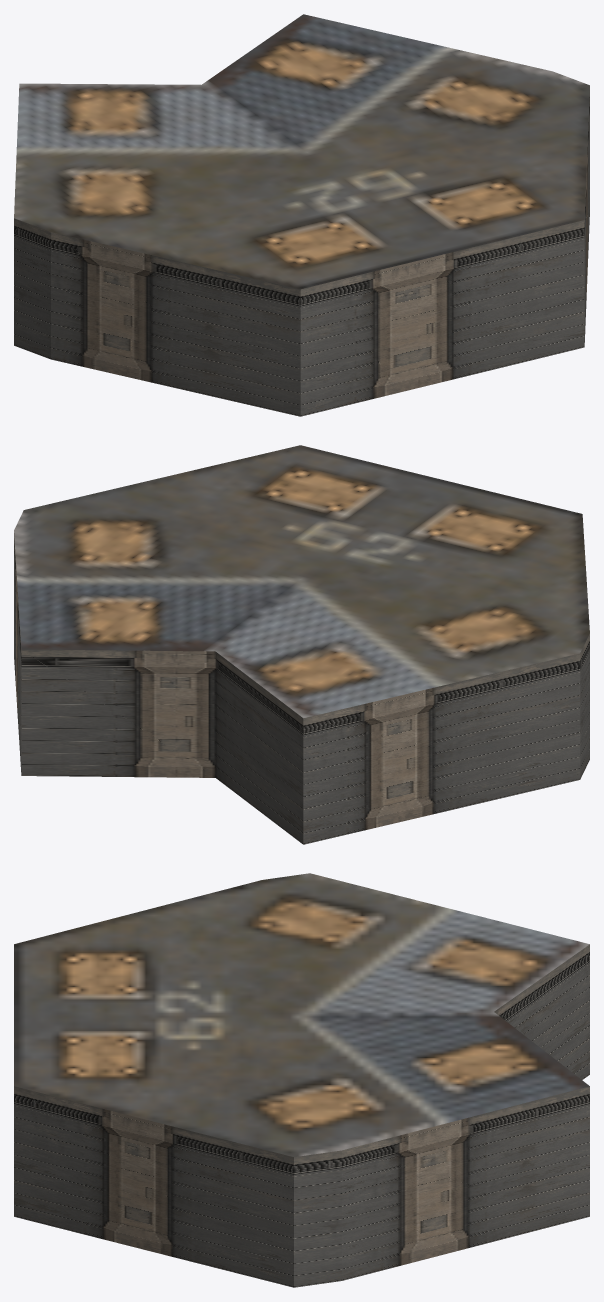
The model's file is hangar_light_a_62.glb.
3 renders of one model, top to bottom at view 1: azimuth 30°, elevation 25°; view 2: azimuth 150°, elevation 25°; view 3: azimuth 270°, elevation 25°, orthographic. The views are drawn at different scales.
Visible parts, largest first — view 1: buildings/saxarba/hangar_light/hangar_light_a_62; view 2: buildings/saxarba/hangar_light/hangar_light_a_62; view 3: buildings/saxarba/hangar_light/hangar_light_a_62.
Boxes of the visible parts, box(x1,y1,x2,y2) form: buildings/saxarba/hangar_light/hangar_light_a_62: box(14, 14, 589, 416); buildings/saxarba/hangar_light/hangar_light_a_62: box(14, 445, 589, 844); buildings/saxarba/hangar_light/hangar_light_a_62: box(14, 873, 589, 1287).
Size of the model in its own units: 84 by 18 by 72.
